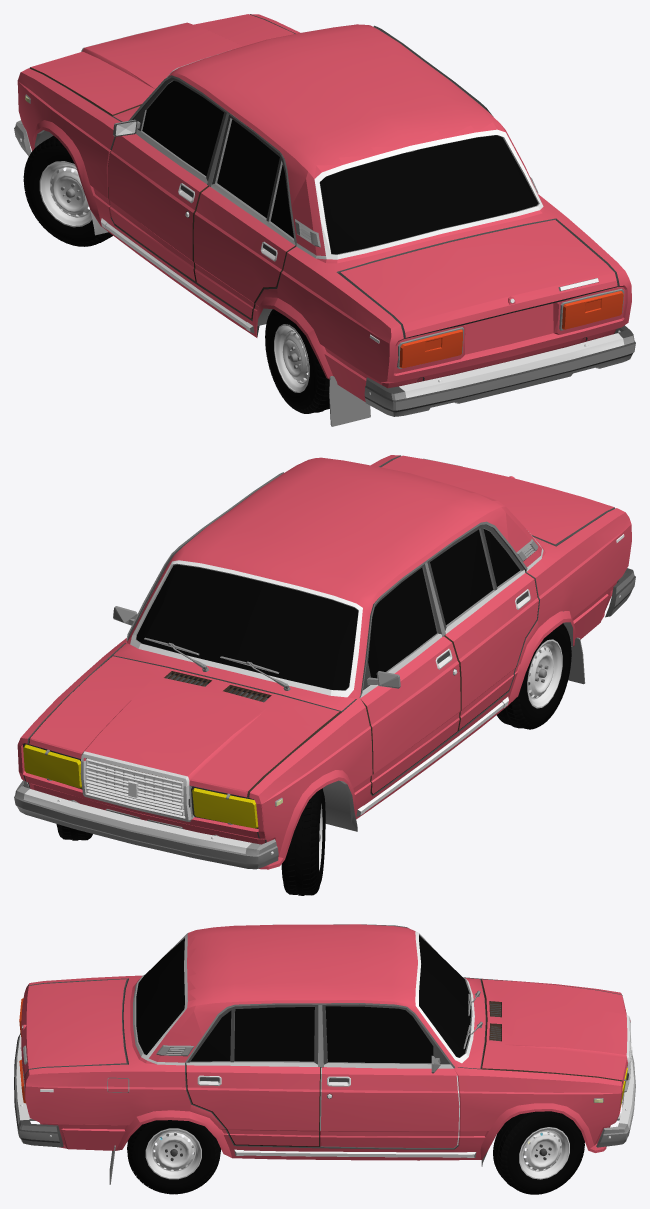
The model's file is lada.fbx.
3 renders of one model, top to bottom at view 1: azimuth 30°, elevation 25°; view 2: azimuth 150°, elevation 25°; view 3: azimuth 270°, elevation 25°, orthographic. The views are drawn at different scales.
Parts seen in each view (by area): view 1: Main, Main Back WIndow, Kapot, Left Dront Door, Left Back Door, Left Front Wheel, Left Front Window, Left Back Wheel, Left Back Window, Left Back Light, Right Back Light Glass, Left Back2 Window; view 2: Main, Kapot, Main Window, Left Dront Door, Left Back Door, Left Front Window, Left Back Wheel, Left Back Window, Left Front Wheel, Left Front Light Glass, Right Front Light Glass, Left Back2 Window; view 3: Main, Kapot, Right Front Door, Right Back Door, Right Front Wheel, Right Back Wheel, Right Front Window, Right Back Window, Main Window, Main Back WIndow, Right Back2 WIndow.
Boxes of the visible parts, x1=… form: Main: x1=14, y1=14, x2=635, y2=426; Main Back WIndow: x1=320, y1=135, x2=538, y2=254; Kapot: x1=29, y1=14, x2=294, y2=116; Left Dront Door: x1=108, y1=77, x2=226, y2=282; Left Back Door: x1=193, y1=115, x2=295, y2=319; Left Front Wheel: x1=23, y1=135, x2=112, y2=246; Left Front Window: x1=142, y1=81, x2=223, y2=176; Left Back Wheel: x1=265, y1=309, x2=329, y2=413; Left Back Window: x1=217, y1=119, x2=279, y2=217; Left Back Light: x1=397, y1=327, x2=463, y2=368; Right Back Light Glass: x1=559, y1=288, x2=624, y2=330; Left Back2 Window: x1=270, y1=165, x2=293, y2=238; Main: x1=14, y1=455, x2=635, y2=869; Kapot: x1=28, y1=656, x2=341, y2=797; Main Window: x1=136, y1=564, x2=358, y2=690; Left Dront Door: x1=360, y1=564, x2=460, y2=794; Left Back Door: x1=427, y1=524, x2=539, y2=731; Left Front Window: x1=368, y1=567, x2=436, y2=678; Left Back Wheel: x1=496, y1=623, x2=571, y2=729; Left Back Window: x1=430, y1=529, x2=493, y2=625; Left Front Wheel: x1=281, y1=788, x2=325, y2=895; Left Front Light Glass: x1=191, y1=786, x2=258, y2=828; Right Front Light Glass: x1=23, y1=743, x2=82, y2=789; Left Back2 Window: x1=483, y1=529, x2=520, y2=586; Main: x1=14, y1=924, x2=635, y2=1184; Kapot: x1=481, y1=979, x2=630, y2=1084; Right Front Door: x1=320, y1=1004, x2=459, y2=1148; Right Back Door: x1=186, y1=1004, x2=320, y2=1146; Right Front Wheel: x1=493, y1=1111, x2=584, y2=1194; Right Back Wheel: x1=127, y1=1120, x2=221, y2=1194; Right Front Window: x1=325, y1=1006, x2=433, y2=1063; Right Back Window: x1=234, y1=1007, x2=314, y2=1061; Main Window: x1=419, y1=935, x2=470, y2=1057; Main Back WIndow: x1=136, y1=938, x2=184, y2=1054; Right Back2 WIndow: x1=190, y1=1010, x2=231, y2=1061.
Size of the model in its own units: 691 by 548 by 1597.
